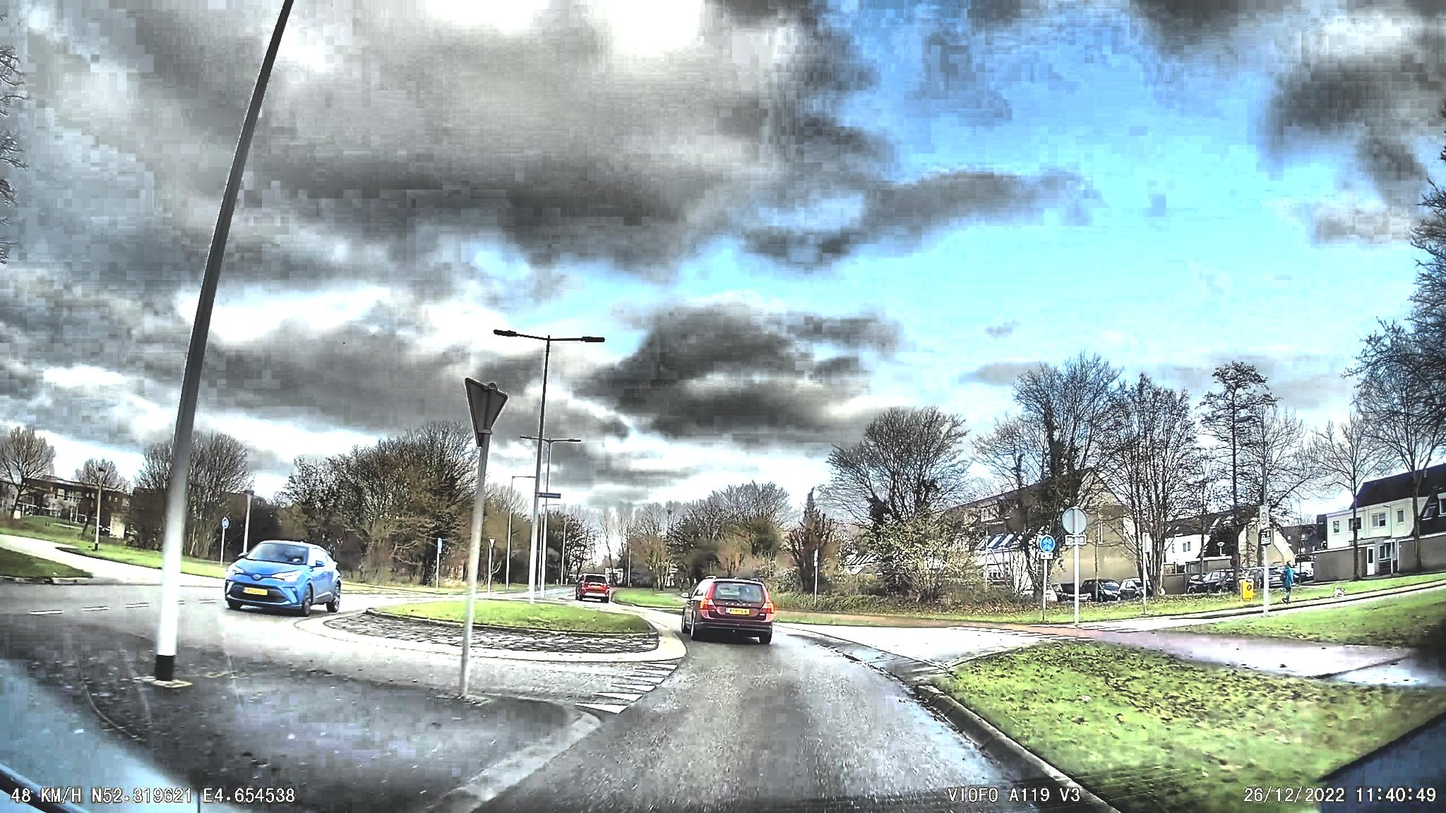Roads: (155, 585, 1106, 813)
